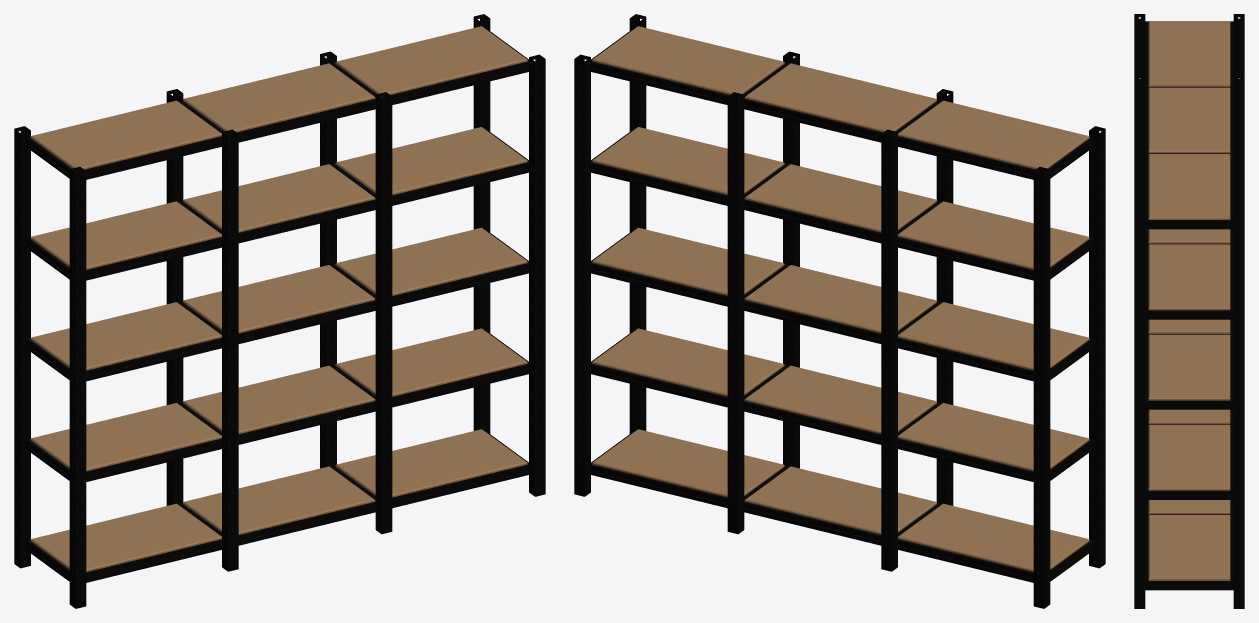
The model's file is Stand 3.fbx.
3 renders of one model, left to right at view 1: azimuth 30°, elevation 25°; view 2: azimuth 150°, elevation 25°; view 3: azimuth 270°, elevation 25°, orthographic. The views are drawn at different scales.
Visible parts, largest first — view 1: Stand 3; view 2: Stand 3; view 3: Stand 3.
Part boxes in pixels (x1,y1,x2,y2): Stand 3: (14, 14, 545, 608); Stand 3: (574, 14, 1105, 608); Stand 3: (1134, 14, 1244, 608).
Bounding box in the file's own units: 226 × 200 × 51.23.
